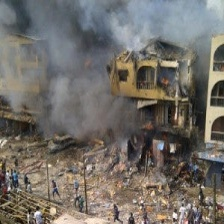smoke: (1, 1, 210, 143)
